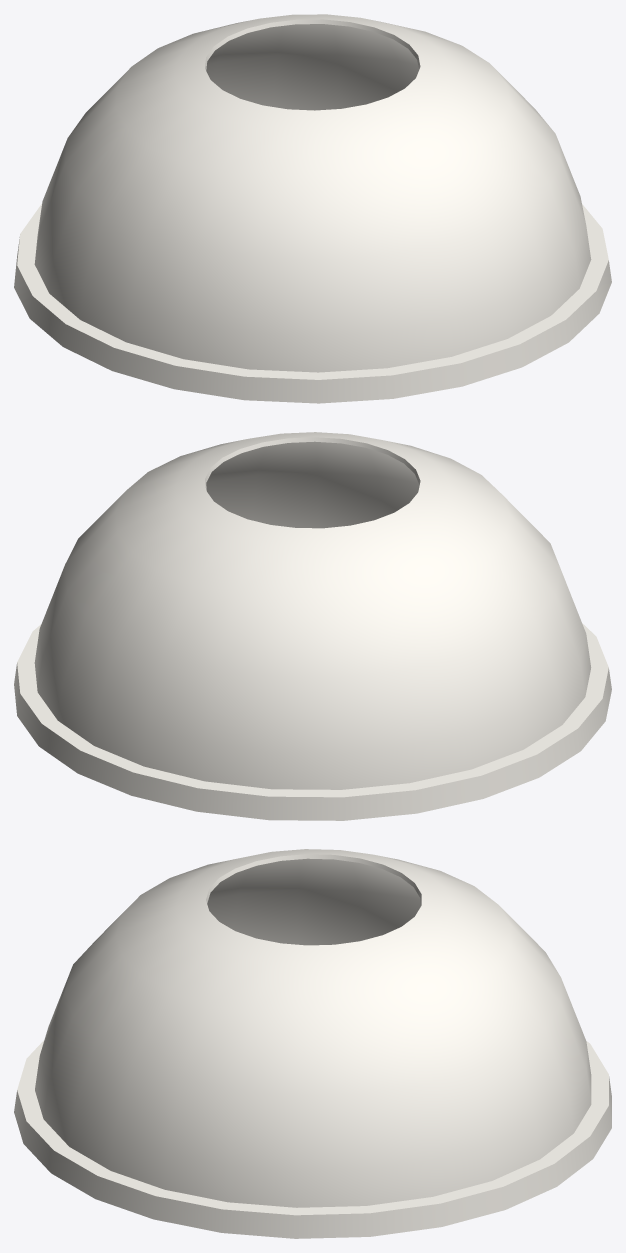
The model's file is Cup M Cover.fbx.
The picture shows the model from 3 angles, top to bottom: view 1: azimuth 30°, elevation 25°; view 2: azimuth 150°, elevation 25°; view 3: azimuth 270°, elevation 25°; orthographic projection.
Parts seen in each view (by area): view 1: Cup M Cover; view 2: Cup M Cover; view 3: Cup M Cover.
Part boxes in pixels (x1,y1,x2,y2): Cup M Cover: (14, 14, 611, 403); Cup M Cover: (14, 432, 611, 820); Cup M Cover: (14, 849, 611, 1238).
Size of the model in its own units: 0.9701 by 0.3805 by 0.9682.
